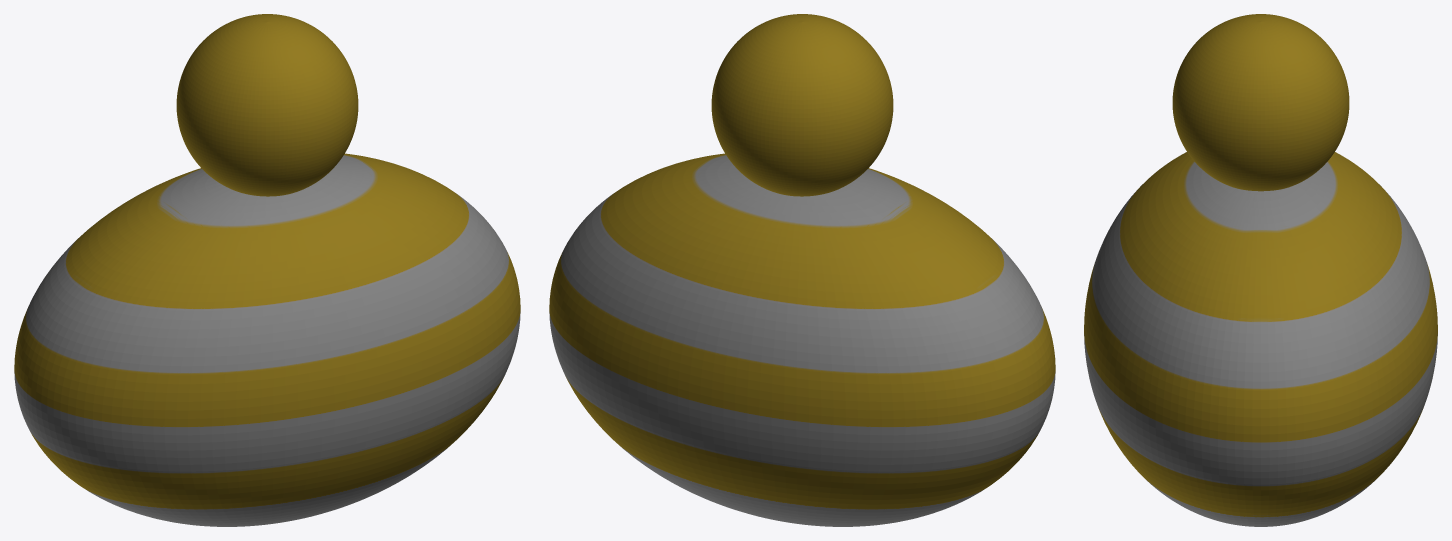
Rendered from BOD1_BMC4_BCC0_BPT2_FRC0_HEA0_HMC4_HCC0_HPT0_ELT0_ERT0_ELL0_ERL0_AP0_AAL0_AAR0_BEK0.fbx.
3 renders of one model, left to right at view 1: azimuth 30°, elevation 25°; view 2: azimuth 150°, elevation 25°; view 3: azimuth 270°, elevation 25°, orthographic. The views are drawn at different scales.
Parts seen in each view (by area): view 1: Body, Head; view 2: Body, Head; view 3: Body, Head.
Part boxes in pixels (x1,y1,x2,y2): Body: (14,153,520,526); Head: (176,14,358,196); Body: (549,153,1055,526); Head: (711,14,893,196); Body: (1084,152,1437,526); Head: (1172,14,1349,191).
Bounding box in the file's own units: 148 × 145 × 98.72.
Materials: 2 (2 with a texture image).
